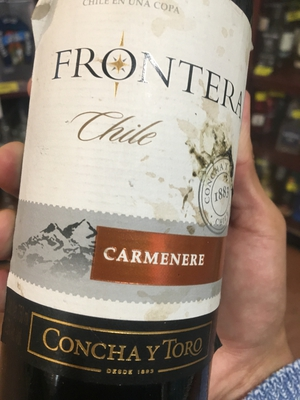frontera carmenere: (16, 3, 257, 400)
